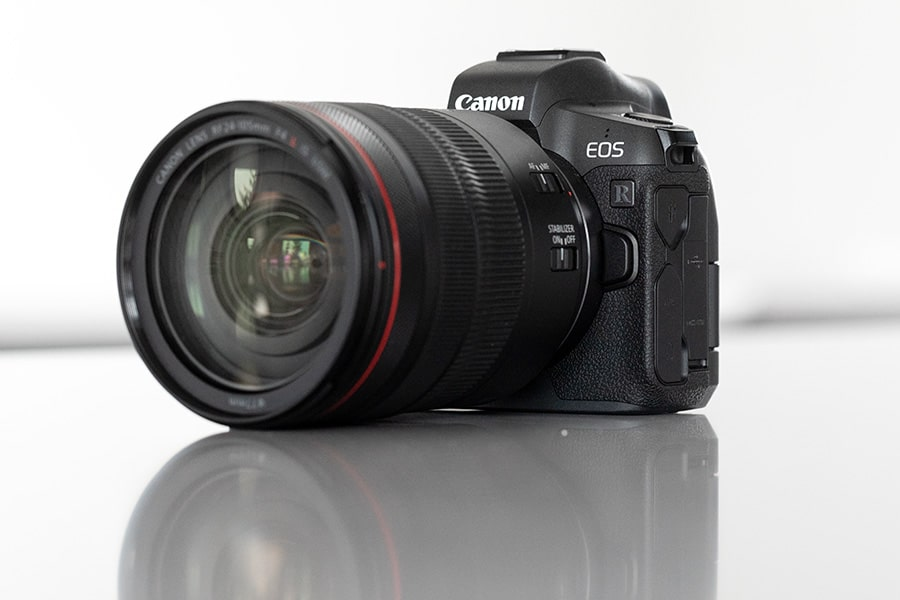camera: (121, 66, 717, 429)
